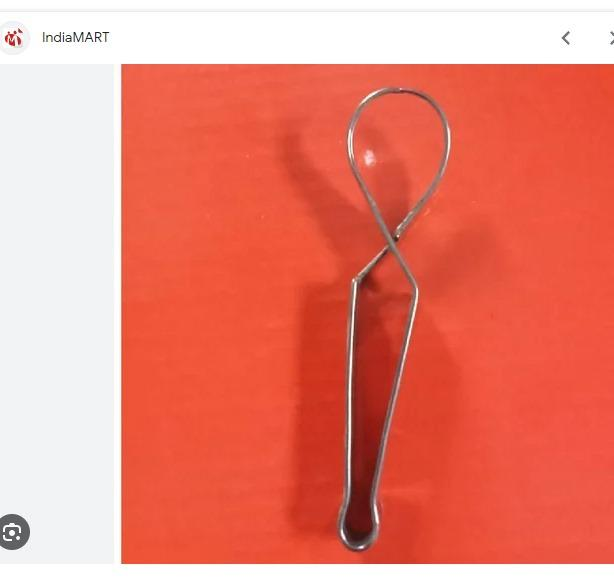Doyen Cross Action Towel Clamp: (331, 77, 454, 555)
